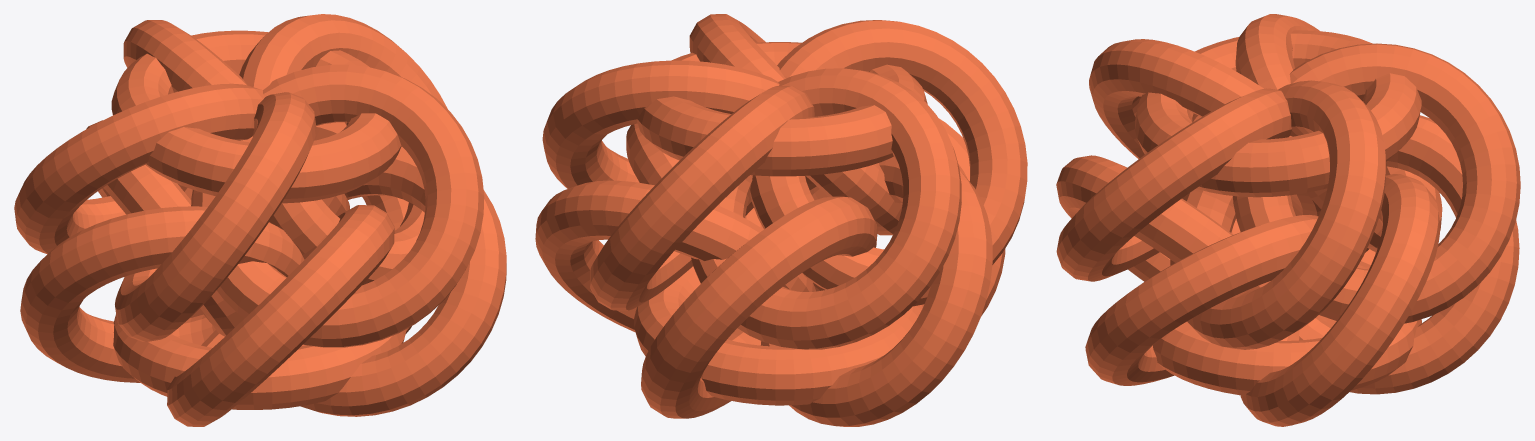
File: knotNodesgeo.fbx
3 views of the same model, side by side, from view 1: azimuth 30°, elevation 25°; view 2: azimuth 150°, elevation 25°; view 3: azimuth 270°, elevation 25° (orthographic). The views are drawn at different scales.
Parts seen in each view (by area): view 1: Torus; view 2: Torus; view 3: Torus.
Boxes of the visible parts, x1=… form: Torus: x1=14, y1=14, x2=506, y2=426; Torus: x1=535, y1=14, x2=1027, y2=426; Torus: x1=1056, y1=14, x2=1520, y2=426.
Size of the model in its own units: 417 by 304 by 402.
